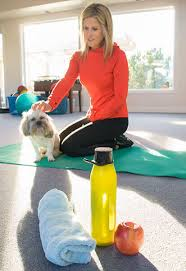apple: (115, 220, 146, 255)
